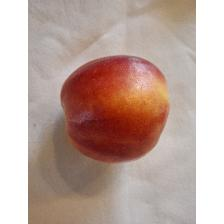Apfel: (58, 52, 172, 166)
